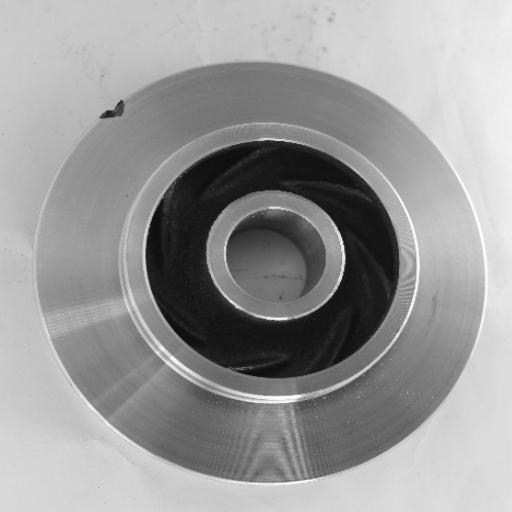crack: (92, 90, 138, 126)
unpolished_casting: (32, 56, 488, 487)
